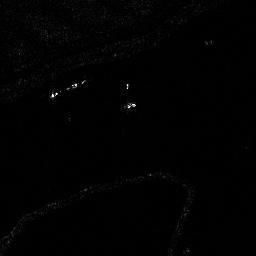ship: (50, 80, 88, 97)
